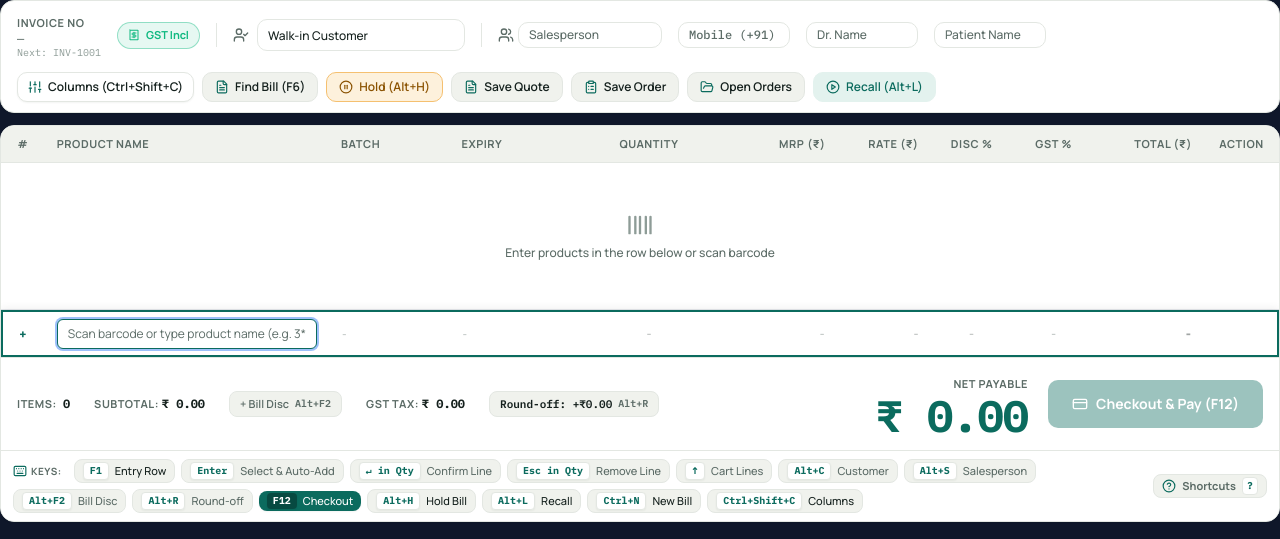
Scenario: POS salesperson chord › types ahead offline and puts the chosen person on the bill
Press s
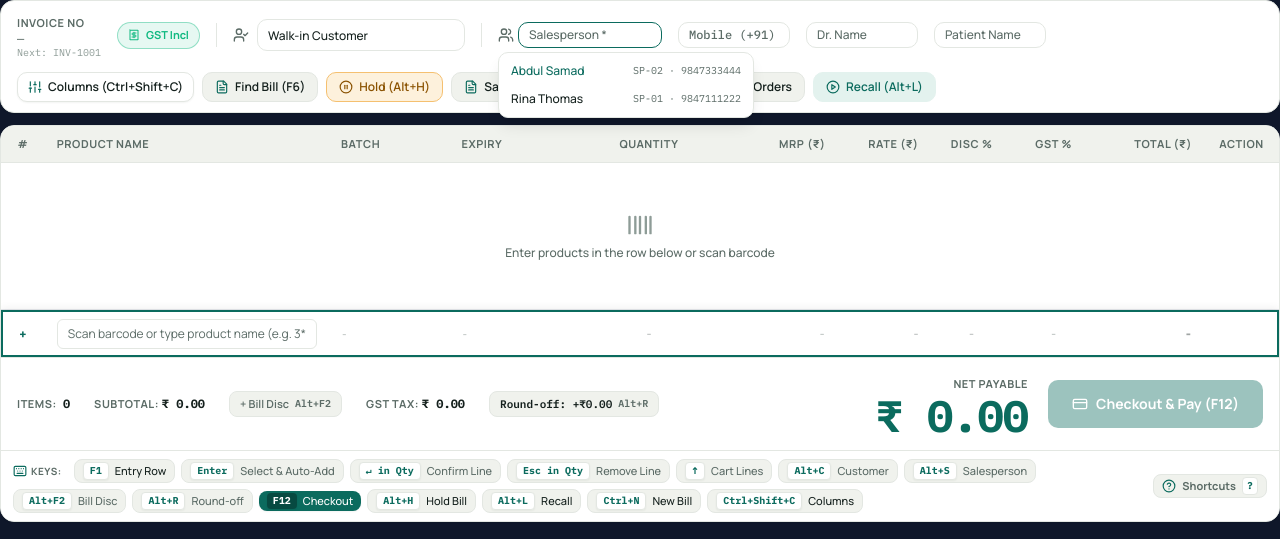
Type "rina" into the dropdown with placeholder "Salesperson *" at (590, 35), box [518, 22, 662, 48]
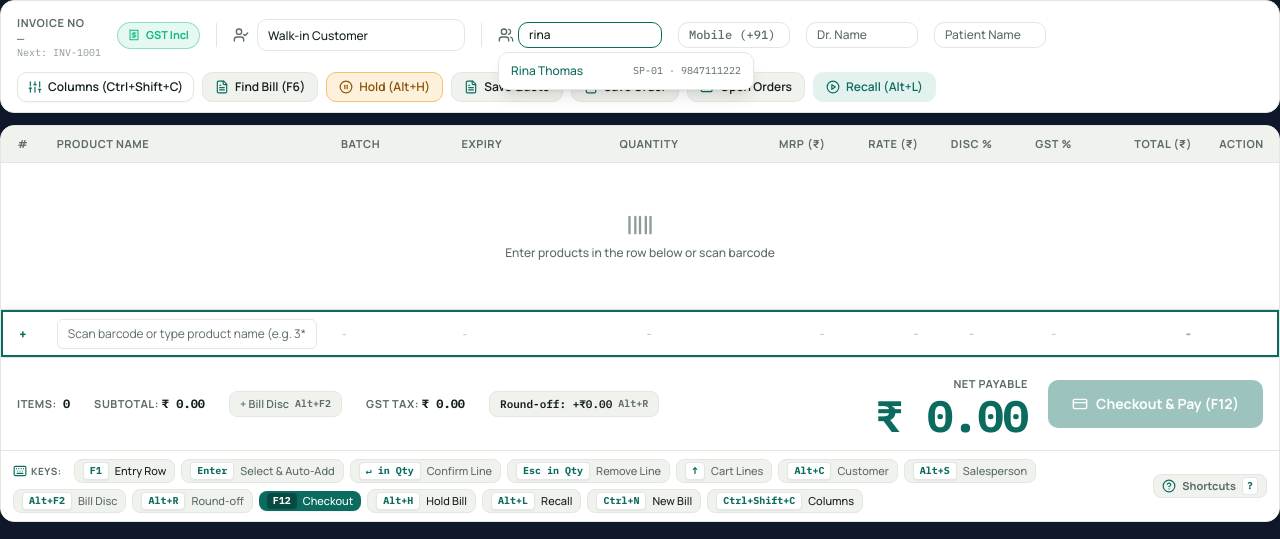
Click the option "Rina Thomas SP-01 · 9847111222" at (547, 71), box [499, 57, 753, 85]
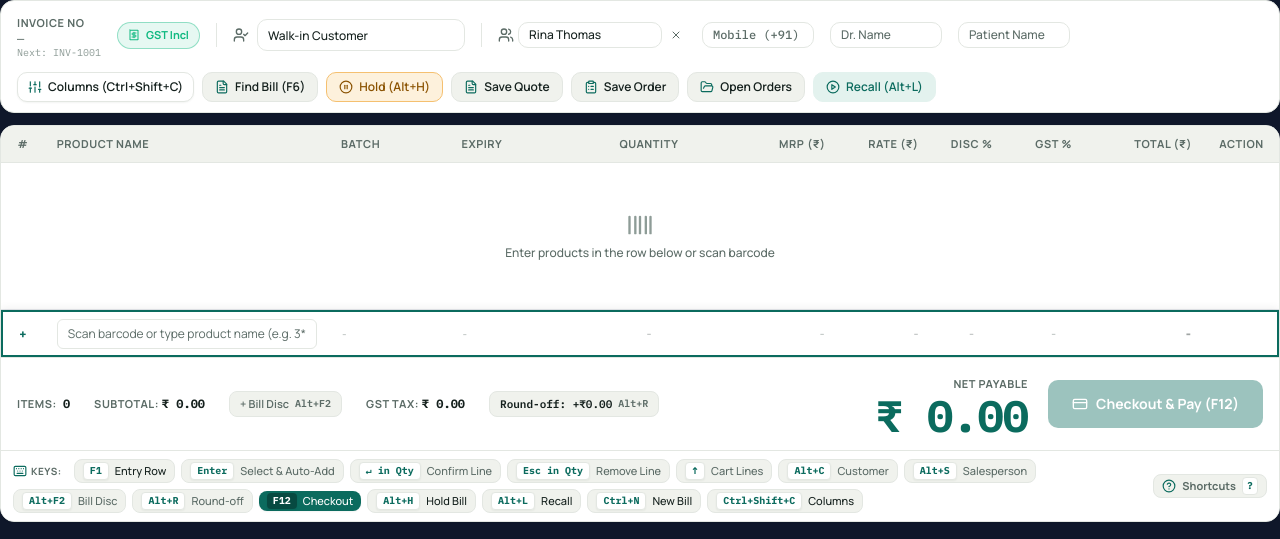
Check: the dropdown with placeholder "Salesperson *" holds "Rina Thomas", box [518, 22, 662, 48]
